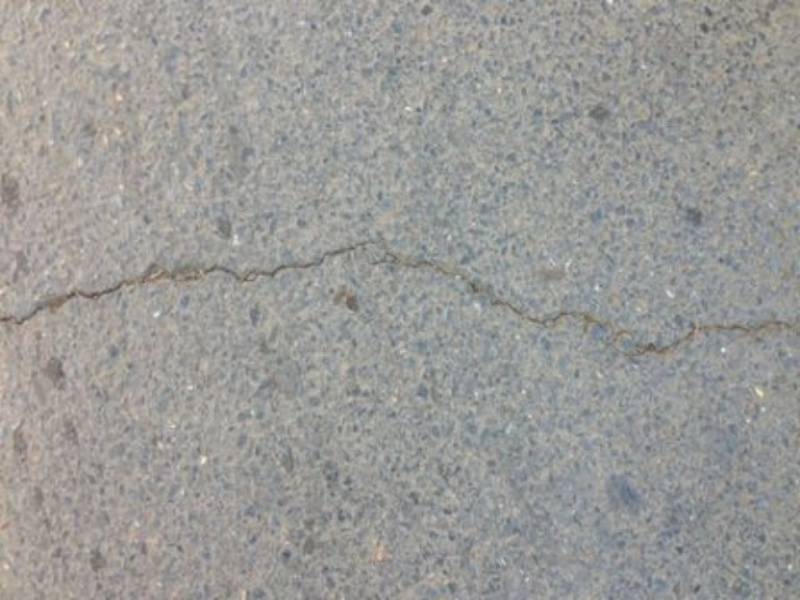crack: (1, 230, 788, 413)
